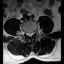CCS_stenosis: (29, 30, 31, 38)
LFS_normal: (33, 29, 35, 36)
LLS_normal: (31, 30, 33, 37)
RFS_normal: (25, 29, 27, 36)
RLS_normal: (27, 30, 29, 37)
